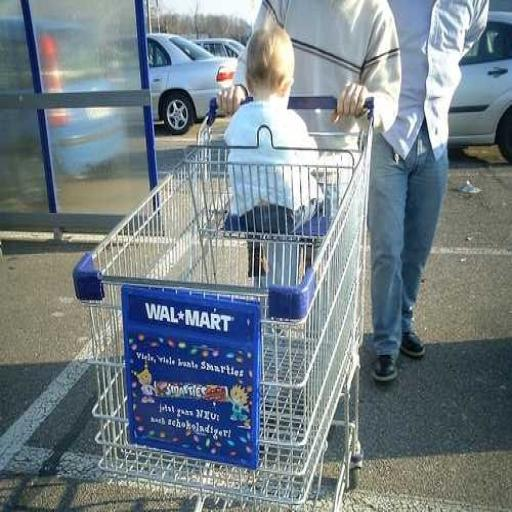shopping_cart: (72, 90, 374, 512)
